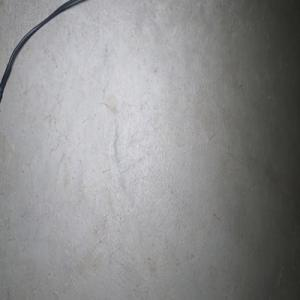Wire: (0, 0, 89, 104)
